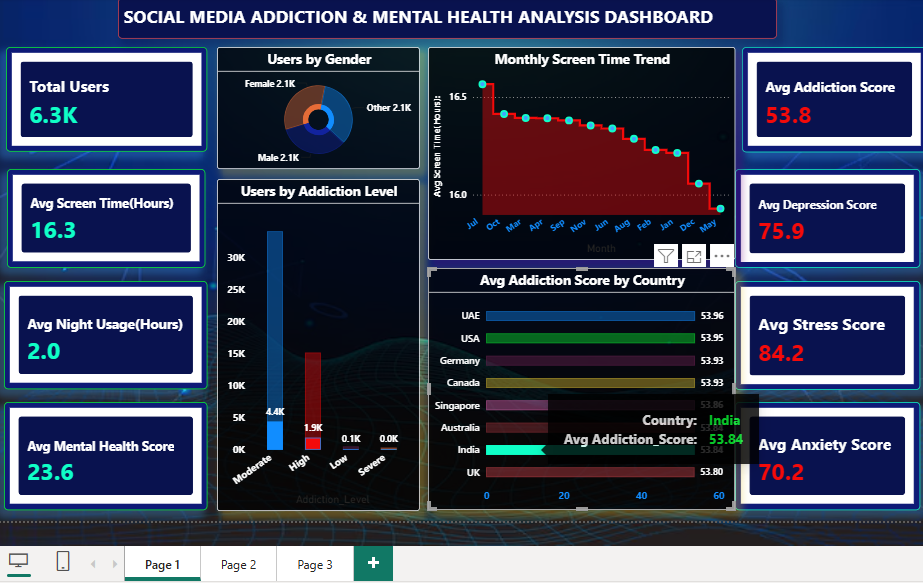

What the dashboard file says about the page in this screenshot:
{"tool":"powerbi","page":{"name":"Page 1","canvas":[1280,720],"ordinal":0},"visuals":[{"type":"cardVisual","fields":{"Data":["CountNonNull(SocialMedia.User_ID)"]},"box":[13,67.9,277.4,144.5],"z":0},{"type":"cardVisual","fields":{"Data":["Avg(SocialMedia.Addiction_Score)"]},"box":[1025.4,67.4,254.6,144.5],"z":1000},{"type":"cardVisual","fields":{"Data":["Avg(SocialMedia.Mental_Health_Score)"]},"box":[10.1,556.2,280.3,148.8],"z":2000},{"type":"cardVisual","fields":{"Data":["Avg(SocialMedia.Anxiety_Score)"]},"box":[1015.7,556,254.6,148.6],"z":3000},{"type":"cardVisual","fields":{"Data":["Avg(SocialMedia.Depression_Score)"]},"box":[1015.7,235.4,254.6,136.3],"z":4000},{"type":"textbox","box":[166.1,0,907.3,56.3],"z":5000},{"type":"cardVisual","fields":{"Data":["SocialMedia.Avg Screen Time(Hours)"]},"box":[14.4,235.5,273,135.8],"z":6000},{"type":"cardVisual","fields":{"Data":["SocialMedia.Avg Night Usage(Hours)"]},"box":[10.1,390.1,280.3,148.8],"z":7000},{"type":"cardVisual","fields":{"Data":["Avg(SocialMedia.Stress_Score)"]},"box":[1015.7,389.5,254.6,150],"z":8000},{"type":"donutChart","title":"Users by Gender","fields":{"Category":["SocialMedia.Gender"],"Y":["CountNonNull(SocialMedia.User_ID)"]},"box":[302.8,67.4,279.4,167.9],"z":9000},{"type":"clusteredColumnChart","title":"Users by Addiction Level","fields":{"Category":["SocialMedia.Addiction_Level"],"Y":["CountNonNull(SocialMedia.User_ID)"]},"box":[303.4,248.5,278.8,456.5],"z":10000},{"type":"lineChart","title":"Monthly Screen Time Trend","fields":{"Y":["Avg(SocialMedia.Total_Screen_Time(Hours))"],"Category":["SocialMedia.Month"]},"box":[593.2,67.4,422.5,293.2],"z":11000},{"type":"clusteredBarChart","title":"Avg Addiction Score by Country","fields":{"Category":["SocialMedia.Country"],"Y":["Avg(SocialMedia.Addiction_Score)"]},"box":[593.2,371.6,422.5,333.1],"z":12000}]}

Visuals, with their boxes on the page's 1280x720 design canvas (x1, y1, x2, y2). These are canvas units, not pixel positions in the 923x583 screenshot, which may show the page scaled, cropped or inside an application window:
cardVisual - CountNonNull(SocialMedia.User_ID): box(13, 68, 290, 212)
cardVisual - Avg(SocialMedia.Addiction_Score): box(1025, 67, 1280, 212)
cardVisual - Avg(SocialMedia.Mental_Health_Score): box(10, 556, 290, 705)
cardVisual - Avg(SocialMedia.Anxiety_Score): box(1016, 556, 1270, 705)
cardVisual - Avg(SocialMedia.Depression_Score): box(1016, 235, 1270, 372)
textbox: box(166, 0, 1073, 56)
cardVisual - SocialMedia.Avg Screen Time(Hours): box(14, 236, 287, 371)
cardVisual - SocialMedia.Avg Night Usage(Hours): box(10, 390, 290, 539)
cardVisual - Avg(SocialMedia.Stress_Score): box(1016, 390, 1270, 540)
"Users by Gender" donutChart: box(303, 67, 582, 235)
"Users by Addiction Level" clusteredColumnChart: box(303, 248, 582, 705)
"Monthly Screen Time Trend" lineChart: box(593, 67, 1016, 361)
"Avg Addiction Score by Country" clusteredBarChart: box(593, 372, 1016, 705)
